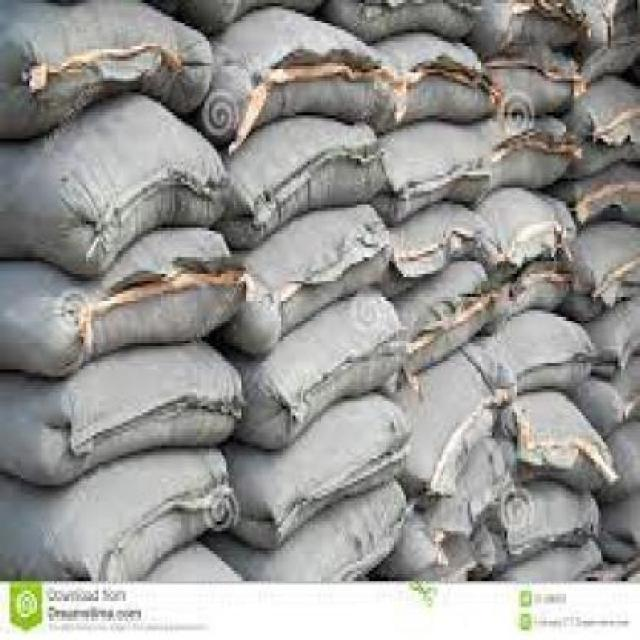gunny_bag: (245, 286, 396, 448), (60, 441, 232, 583), (251, 393, 399, 551), (62, 350, 241, 478), (66, 237, 234, 372), (238, 211, 392, 352), (394, 338, 511, 501), (14, 36, 213, 130), (76, 151, 230, 269), (236, 126, 375, 248), (257, 478, 401, 588), (206, 46, 383, 135), (420, 421, 513, 566), (505, 391, 618, 482), (397, 269, 495, 372), (381, 130, 482, 225), (389, 209, 485, 295), (489, 327, 585, 408), (489, 193, 571, 287), (495, 487, 598, 561), (488, 115, 571, 193), (386, 64, 490, 124), (573, 85, 638, 176), (332, 0, 475, 39), (503, 533, 606, 586), (571, 168, 640, 247), (491, 254, 566, 325), (570, 236, 640, 309), (492, 61, 577, 121), (479, 2, 581, 49), (407, 536, 499, 584), (587, 302, 640, 382), (145, 544, 246, 581), (209, 0, 327, 31), (584, 36, 636, 91), (600, 361, 639, 430), (584, 2, 638, 50), (608, 495, 640, 561), (611, 423, 640, 482)
